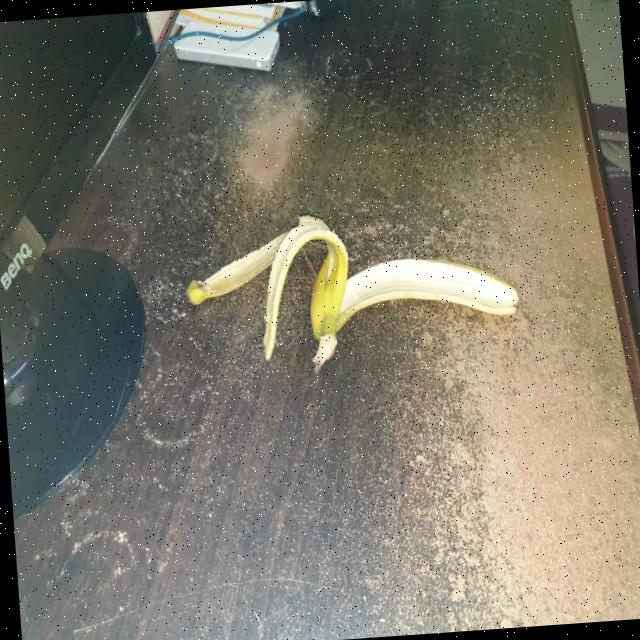banana-peel: (180, 198, 522, 382)
